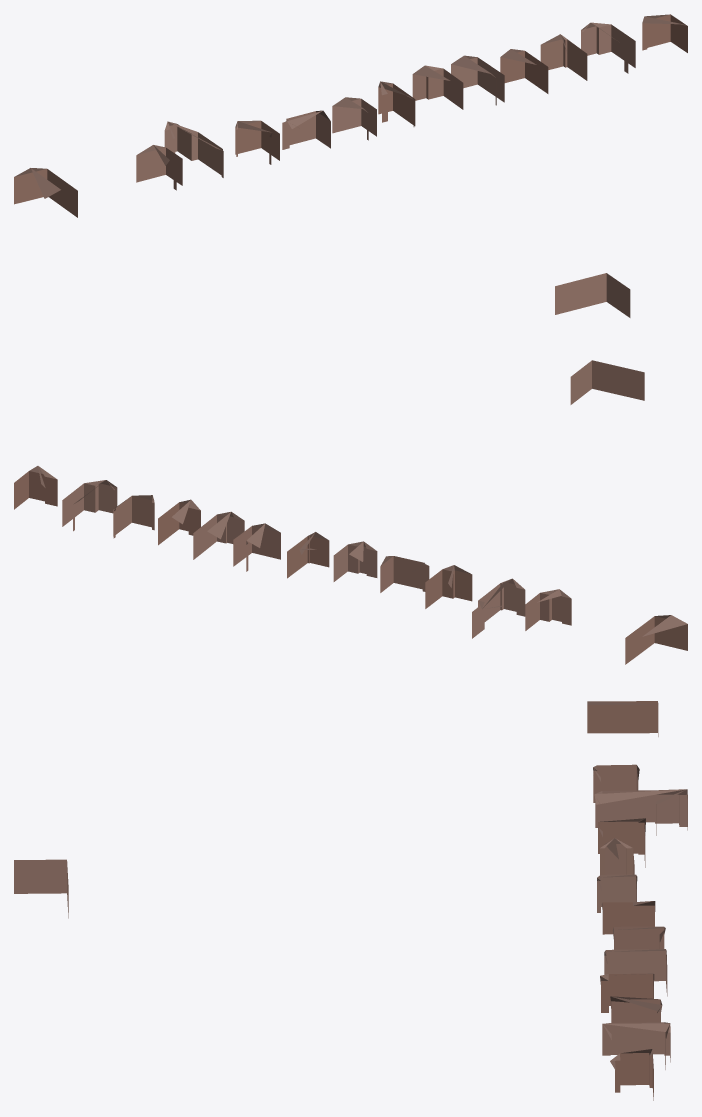
The model's file is c_1636_17836_buildings_residential.glb.
3 renders of one model, top to bottom at view 1: azimuth 30°, elevation 25°; view 2: azimuth 150°, elevation 25°; view 3: azimuth 270°, elevation 25°, orthographic. The views are drawn at different scales.
Parts seen in each view (by area): view 1: geometry_0; view 2: geometry_0; view 3: geometry_0.
Part boxes in pixels (box(x1,y1,x2,y2)): geometry_0: box(14, 14, 687, 317); geometry_0: box(14, 360, 687, 664); geometry_0: box(14, 701, 687, 1100).
Size of the model in its own units: 226 by 12.04 by 172.
